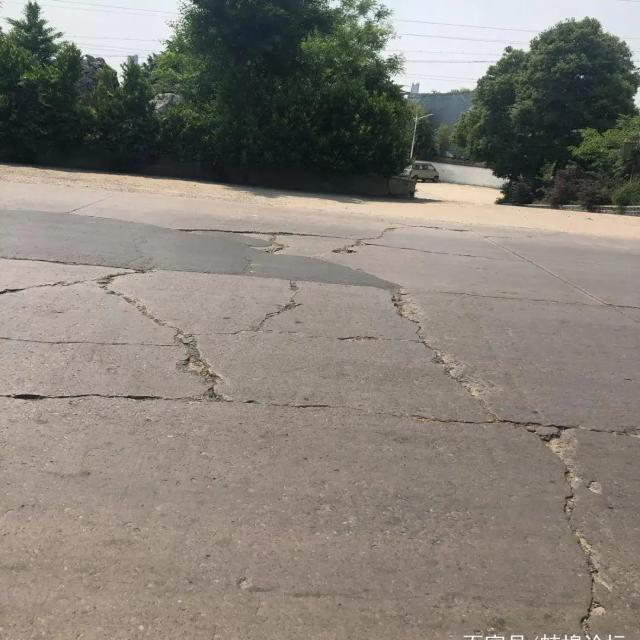Pothole: (0, 254, 242, 406), (490, 416, 634, 638), (382, 290, 517, 426), (202, 228, 522, 264)
